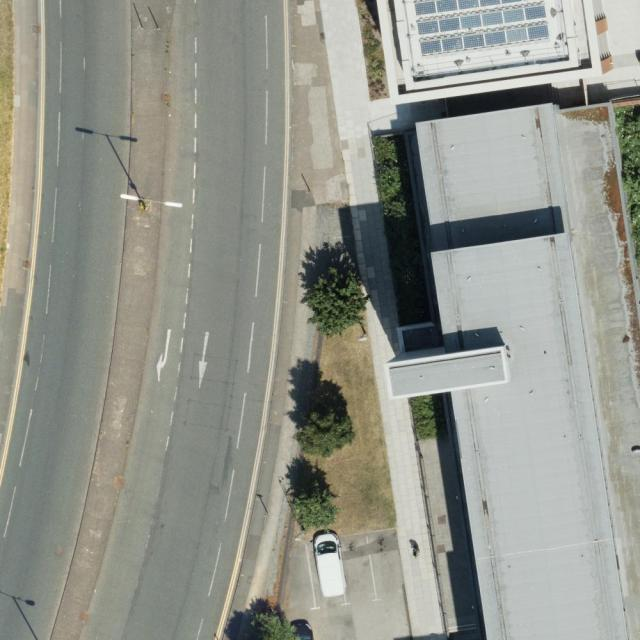roof: (385, 100, 640, 640), (374, 0, 605, 108)
solar: (419, 22, 550, 56), (417, 4, 547, 36), (414, 0, 526, 17)
